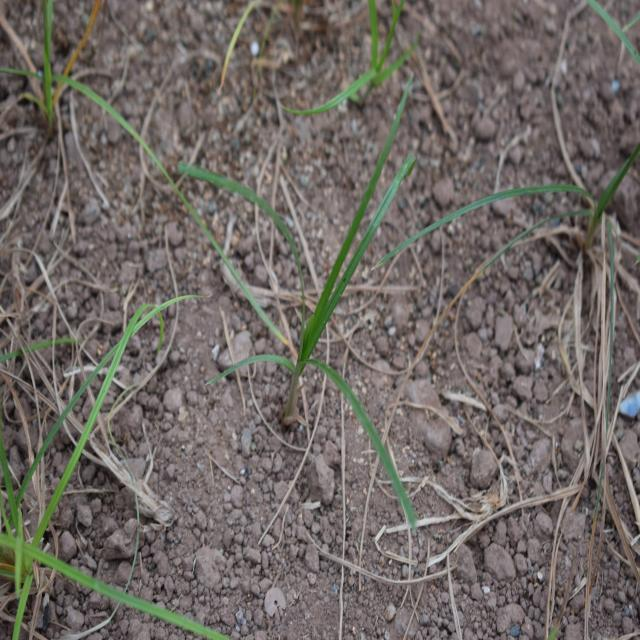sedge: (196, 104, 524, 529)
